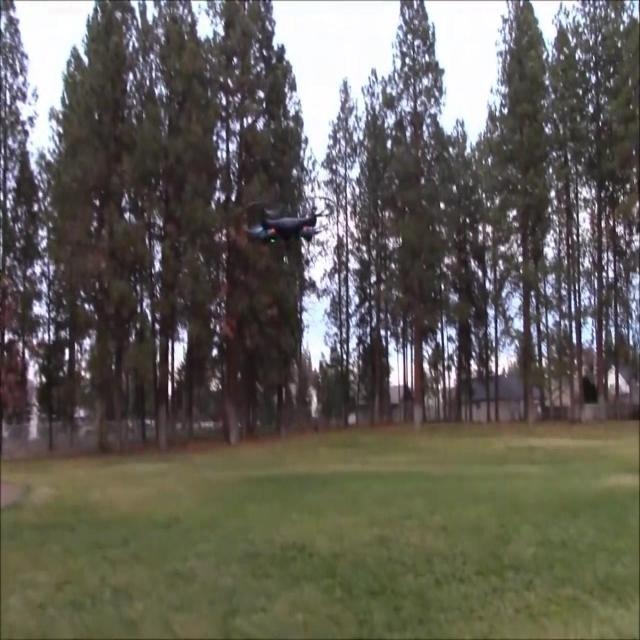UAV: (248, 205, 322, 264)
